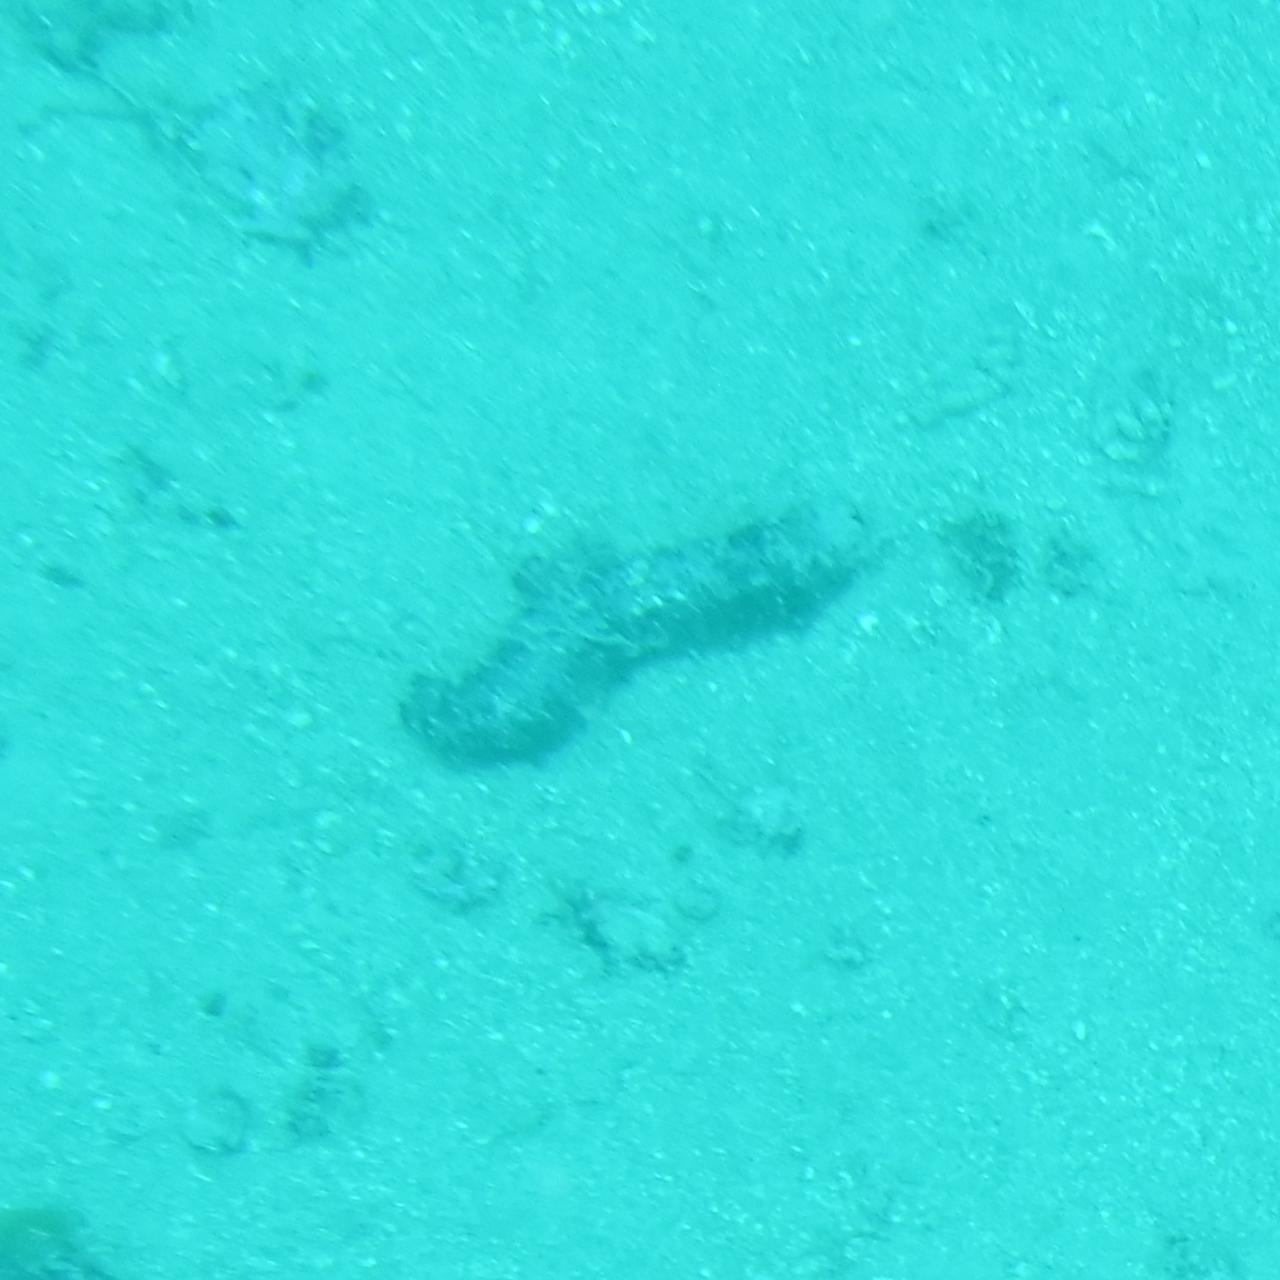Holothuria tubulosa: (380, 492, 900, 788)
